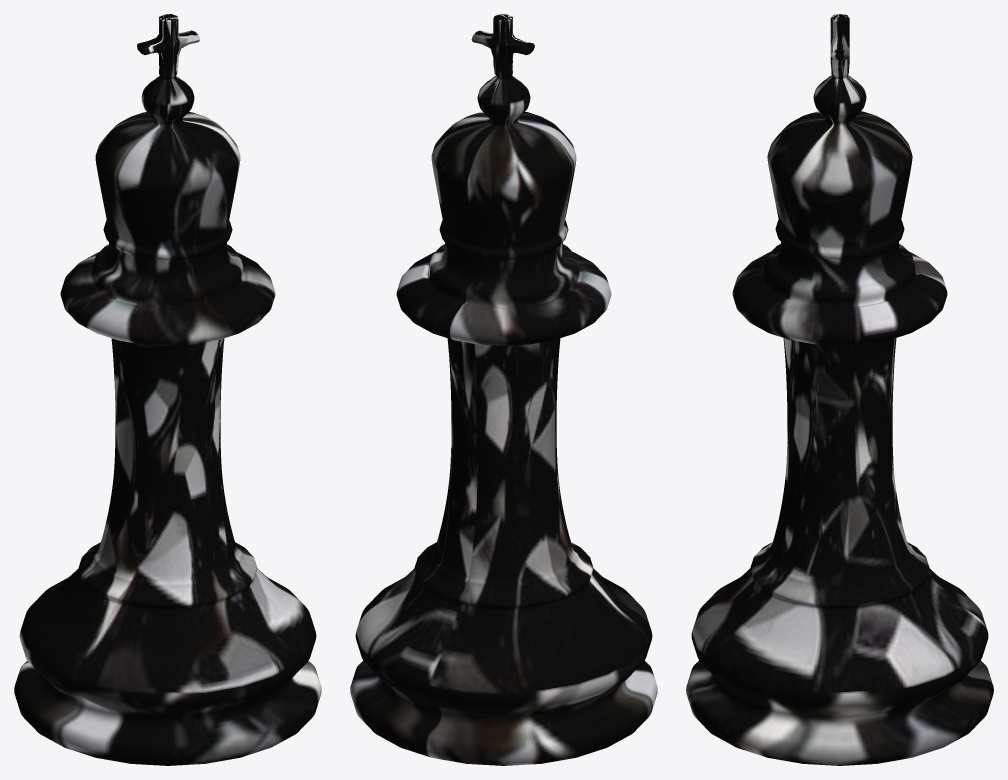
The model's file is King.obj.
The picture shows the model from 3 angles, left to right: view 1: azimuth 30°, elevation 25°; view 2: azimuth 150°, elevation 25°; view 3: azimuth 270°, elevation 25°; orthographic projection.
Parts seen in each view (by area): view 1: mesh01; view 2: mesh01; view 3: mesh01.
Part boxes in pixels (bbox=[...]): mesh01: bbox=[14, 14, 321, 765]; mesh01: bbox=[350, 14, 657, 765]; mesh01: bbox=[686, 14, 993, 765].
Size of the model in its own units: 4.76 by 11.79 by 4.76.
